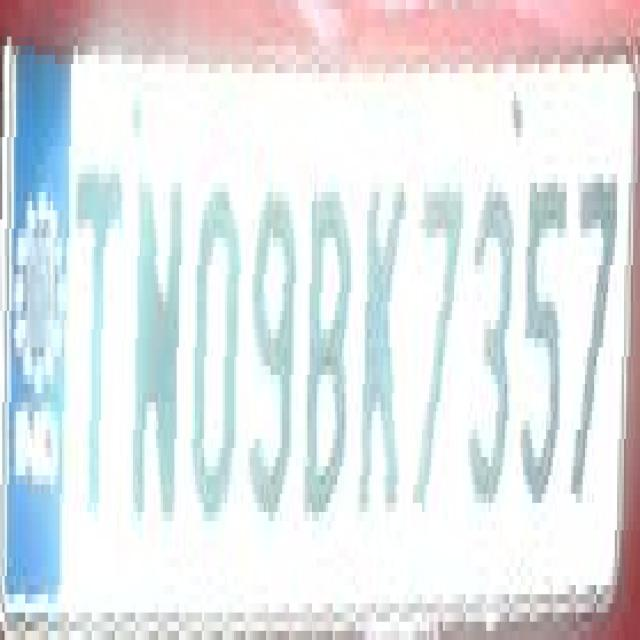license_plate: (18, 55, 640, 622)
